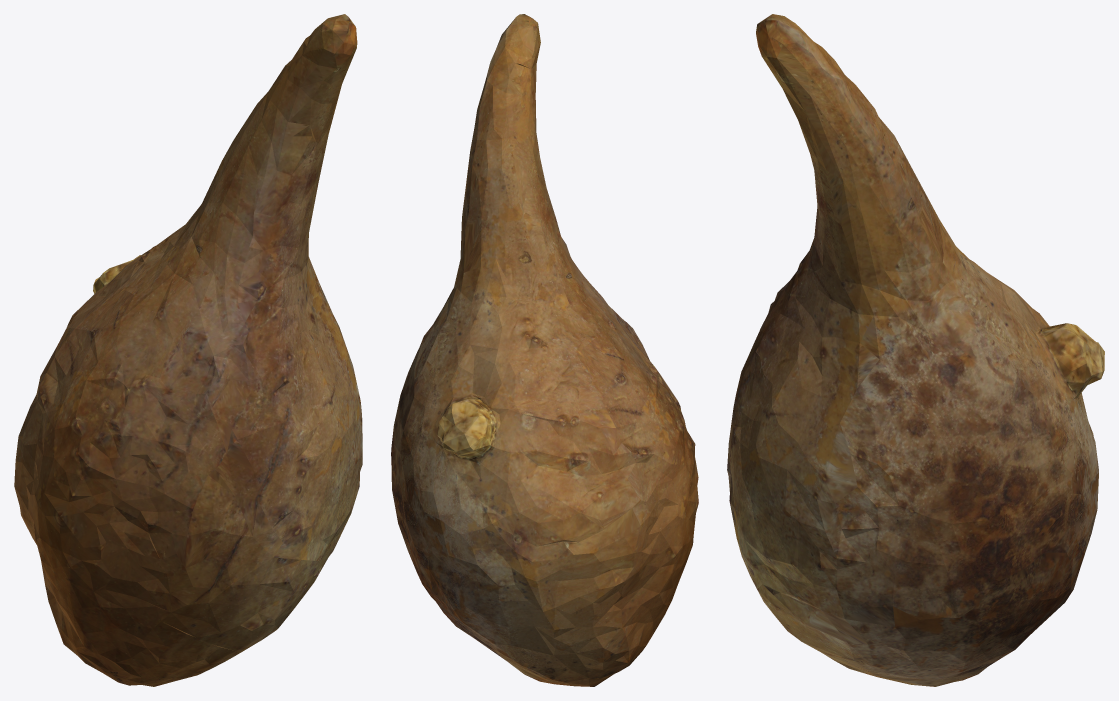
The model's file is HochetCourgeFlippedMP.obj.
The picture shows the model from 3 angles, left to right: view 1: azimuth 30°, elevation 25°; view 2: azimuth 150°, elevation 25°; view 3: azimuth 270°, elevation 25°; orthographic projection. The views are drawn at different scales.
Visible parts, largest first — view 1: gourd; view 2: gourd; view 3: gourd.
Part boxes in pixels (x1,y1,x2,y2): gourd: (14, 14, 362, 686); gourd: (391, 14, 698, 686); gourd: (727, 14, 1104, 686).
Size of the model in its own units: 4.95 by 10.49 by 4.92.
